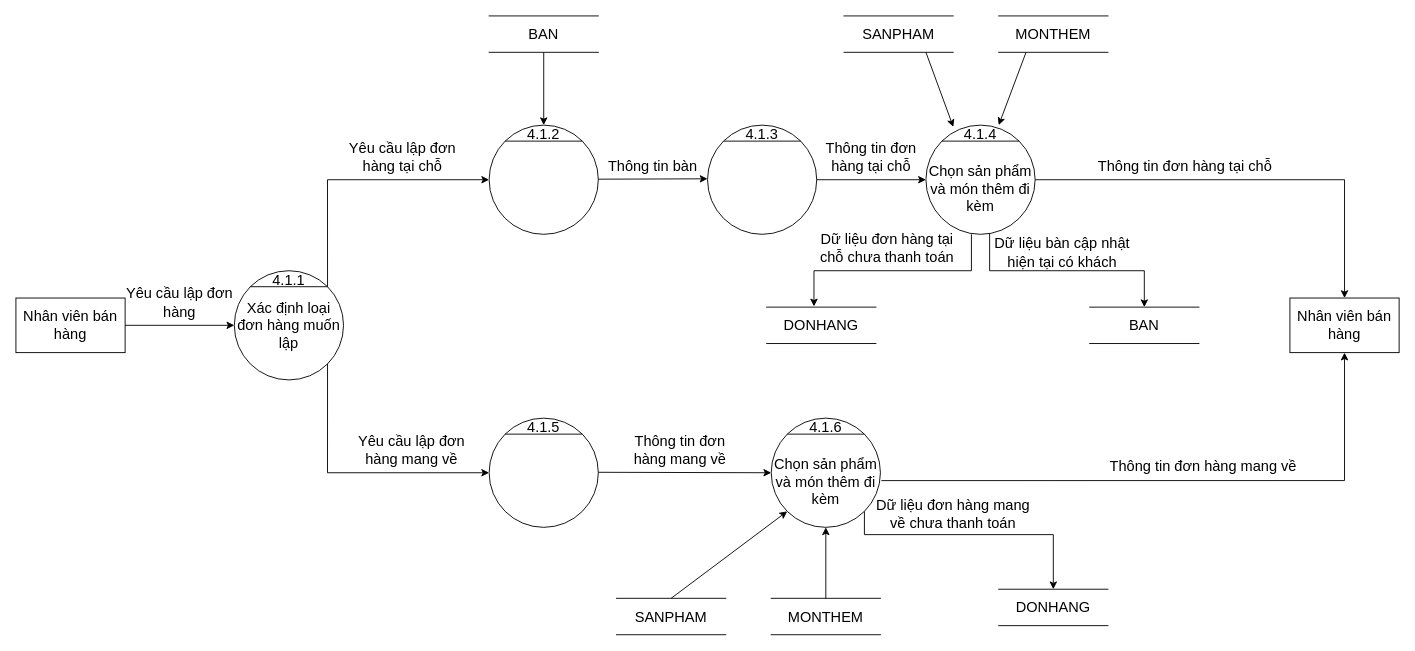
Some shapes in this 1415 by 651 pixel diagram are drawn without their labels. The box of each missing label's shape, as (x1, y1, x2, y2) in pixels:
Chọn bàn: (488, 124, 598, 234)
Khởi tạo đơn hàng mang về: (488, 417, 598, 527)
Khởi tạo đơn hàng tại chỗ: (707, 124, 817, 234)
